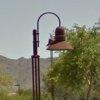Tree: (68, 15, 100, 84)
